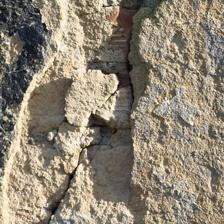Crack: (22, 0, 112, 90), (2, 42, 112, 107)
